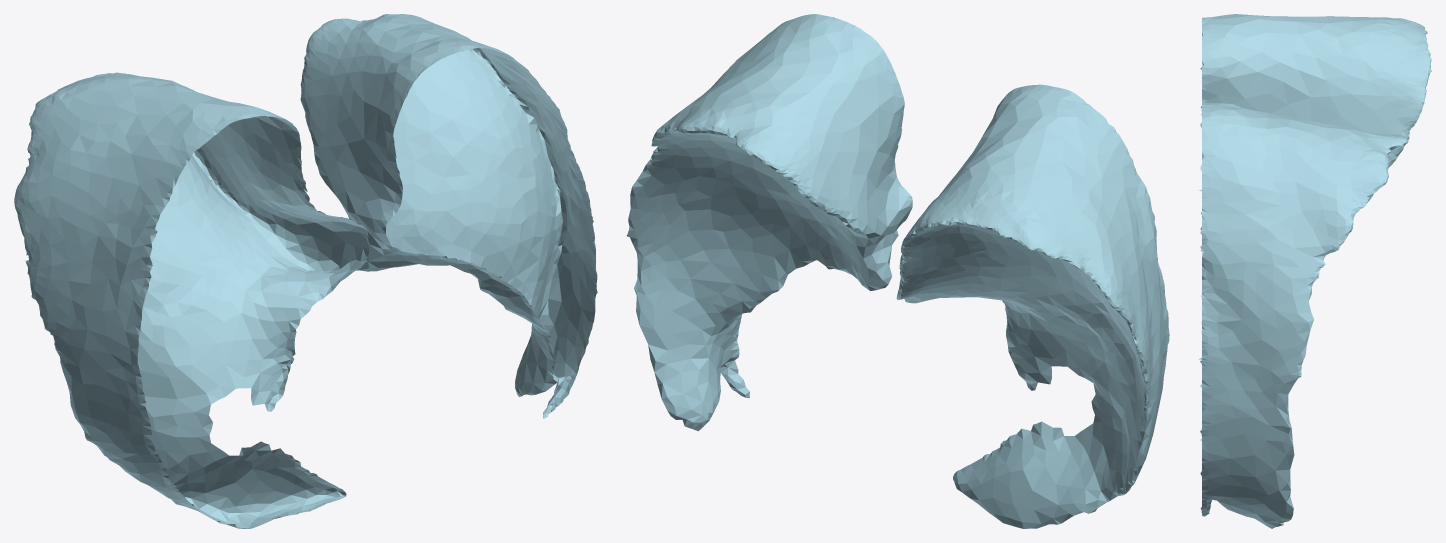
File: lungs.obj
3 renders of one model, left to right at view 1: azimuth 30°, elevation 25°; view 2: azimuth 150°, elevation 25°; view 3: azimuth 270°, elevation 25°, orthographic. The views are drawn at different scales.
Parts seen in each view (by area): view 1: grp1; view 2: grp1; view 3: grp1.
Part boxes in pixels (x1,y1,x2,y2): grp1: [14, 14, 597, 528]; grp1: [626, 14, 1169, 528]; grp1: [1198, 14, 1431, 528].
Bounding box in the file's own units: 287 × 230 × 119.
